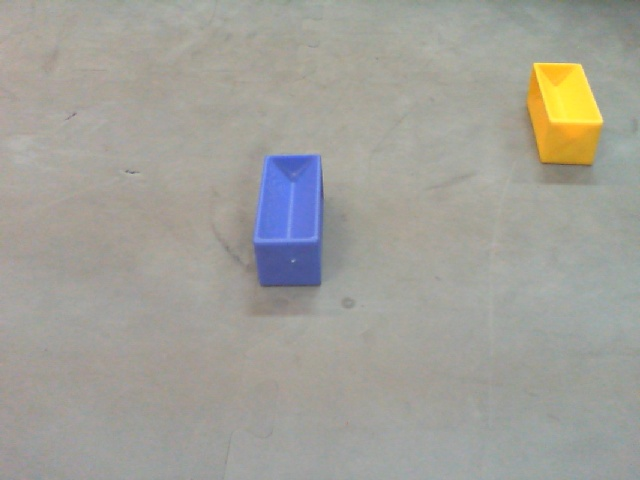BlueSample: (250, 151, 330, 295)
YellowSample: (521, 54, 608, 175)
